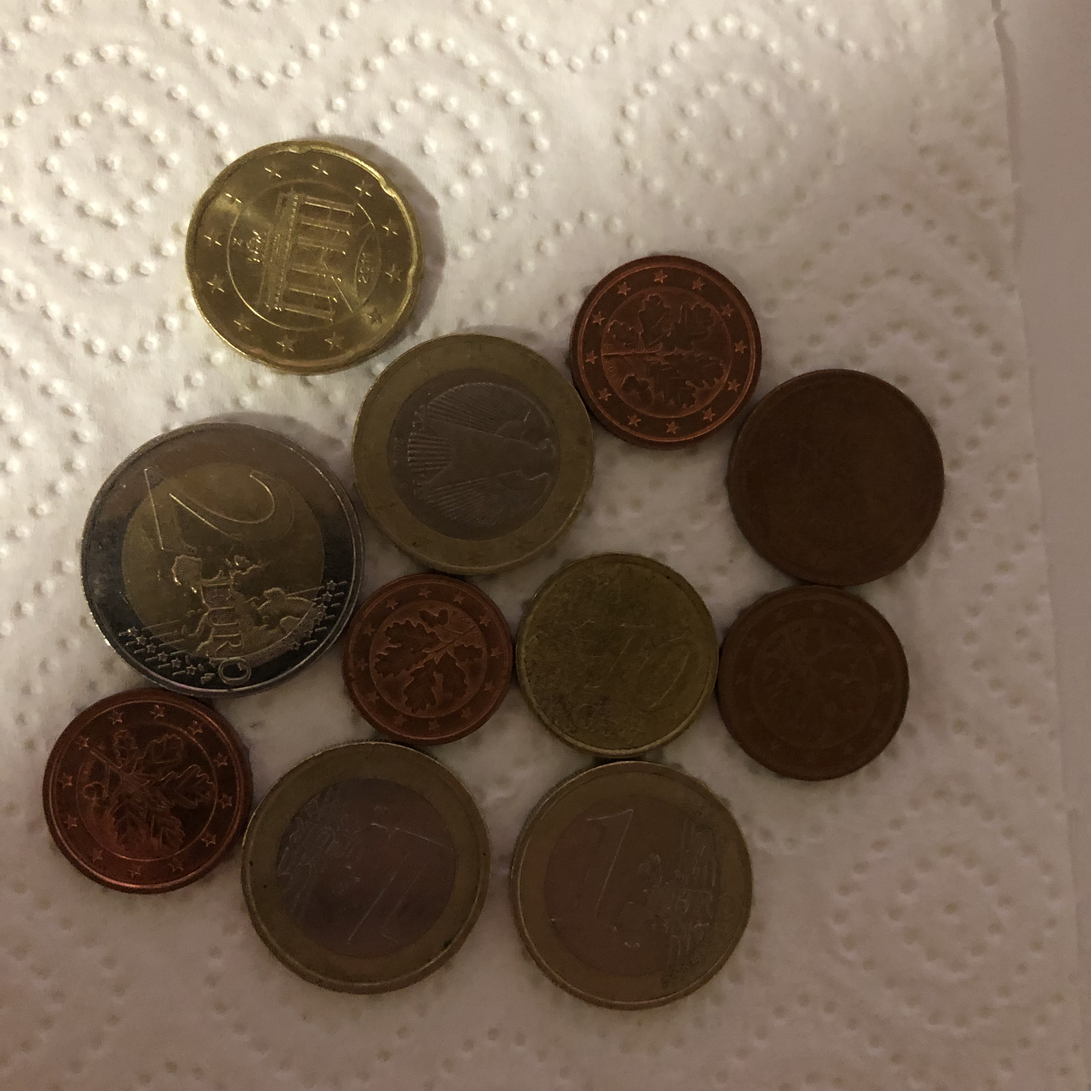1 cent: (341, 566, 508, 746)
1 euro: (351, 321, 603, 572), (507, 762, 758, 1013), (242, 744, 493, 995)
10 cent: (516, 545, 726, 761)
2 cent: (720, 584, 913, 779), (571, 253, 764, 447)
2 euro: (75, 420, 364, 698)
20 cent: (184, 135, 428, 380)
5 cent: (726, 361, 945, 584), (38, 682, 257, 905)
